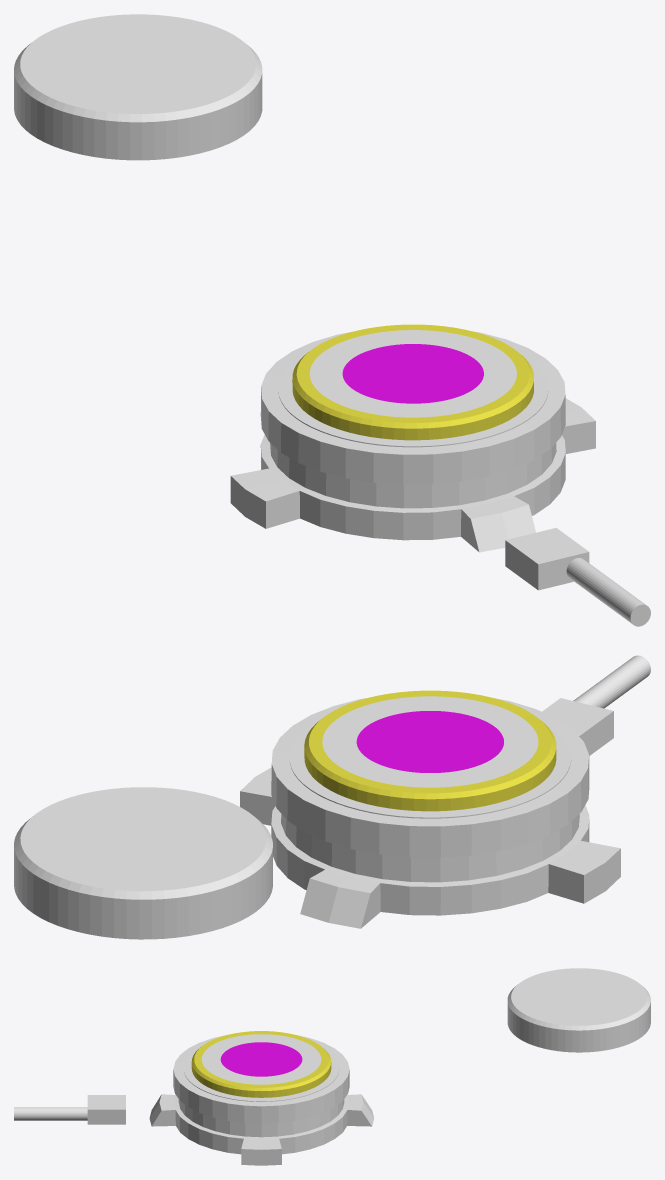
File: power-box.fbx
3 views of the same model, one above another, from view 1: azimuth 30°, elevation 25°; view 2: azimuth 150°, elevation 25°; view 3: azimuth 270°, elevation 25° (orthographic). The views are drawn at different scales.
Visible parts, largest first — view 1: Base, Push.001, Push, Cube, Ring, Cylinder; view 2: Base, Push.001, Push, Ring, Cube, Cylinder; view 3: Base, Push.001, Push, Ring, Cube, Cylinder.
Boxes of the visible parts, x1,y1,x2,y2 form: Base: [230, 331, 595, 552]; Push.001: [14, 14, 262, 160]; Push: [292, 324, 533, 440]; Cube: [505, 527, 589, 590]; Ring: [278, 356, 548, 447]; Cylinder: [566, 558, 650, 626]; Base: [240, 698, 620, 928]; Push.001: [14, 787, 272, 939]; Push: [304, 690, 556, 811]; Ring: [289, 723, 571, 818]; Cube: [542, 698, 613, 755]; Cylinder: [573, 655, 650, 708]; Base: [149, 1034, 374, 1165]; Push.001: [507, 968, 650, 1052]; Push: [191, 1031, 331, 1097]; Ring: [183, 1049, 339, 1101]; Cube: [87, 1095, 125, 1124]; Cylinder: [14, 1107, 87, 1120].
Bounding box in the file's own units: 578 × 346 × 1643.
